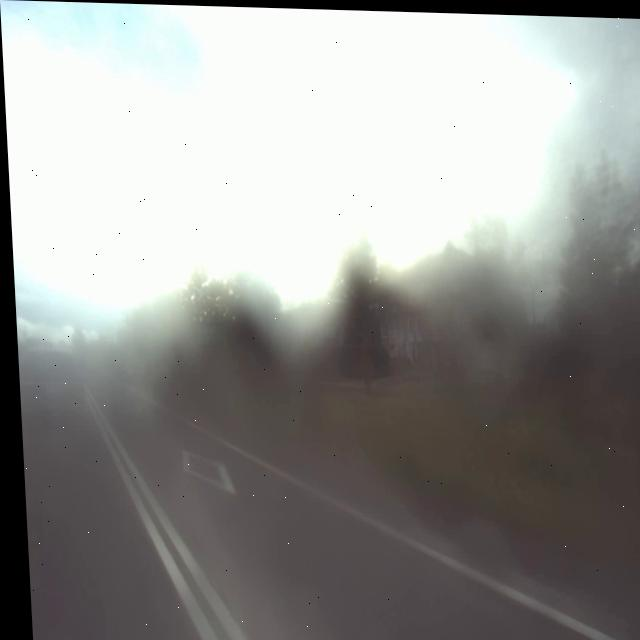car: (13, 331, 83, 444)
